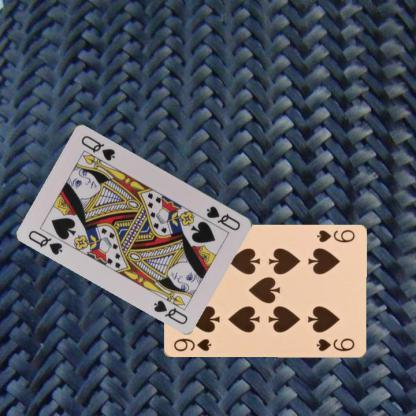9s: (171, 336, 213, 354), (314, 227, 356, 244)
Qs: (204, 203, 242, 232), (26, 228, 64, 257)
